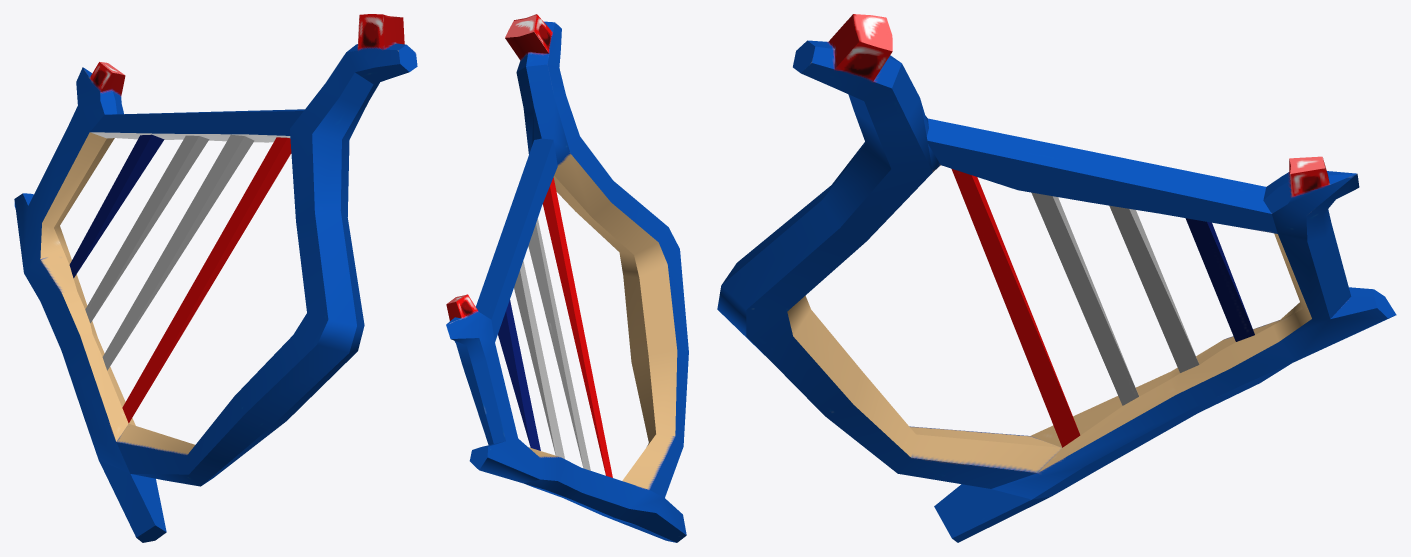
Rendered from Arpa2_000006.obj.
3 views of the same model, side by side, from view 1: azimuth 30°, elevation 25°; view 2: azimuth 150°, elevation 25°; view 3: azimuth 270°, elevation 25° (orthographic). The views are drawn at different scales.
Parts seen in each view (by area): view 1: a2_Arpa_1:pCube7; view 2: a2_Arpa_1:pCube7; view 3: a2_Arpa_1:pCube7.
Boxes of the visible parts, x1=… form: a2_Arpa_1:pCube7: x1=14, y1=14, x2=417, y2=542; a2_Arpa_1:pCube7: x1=446, y1=14, x2=688, y2=542; a2_Arpa_1:pCube7: x1=717, y1=14, x2=1396, y2=542.
Bounding box in the file's own units: 3.64 × 7.68 × 7.36.
